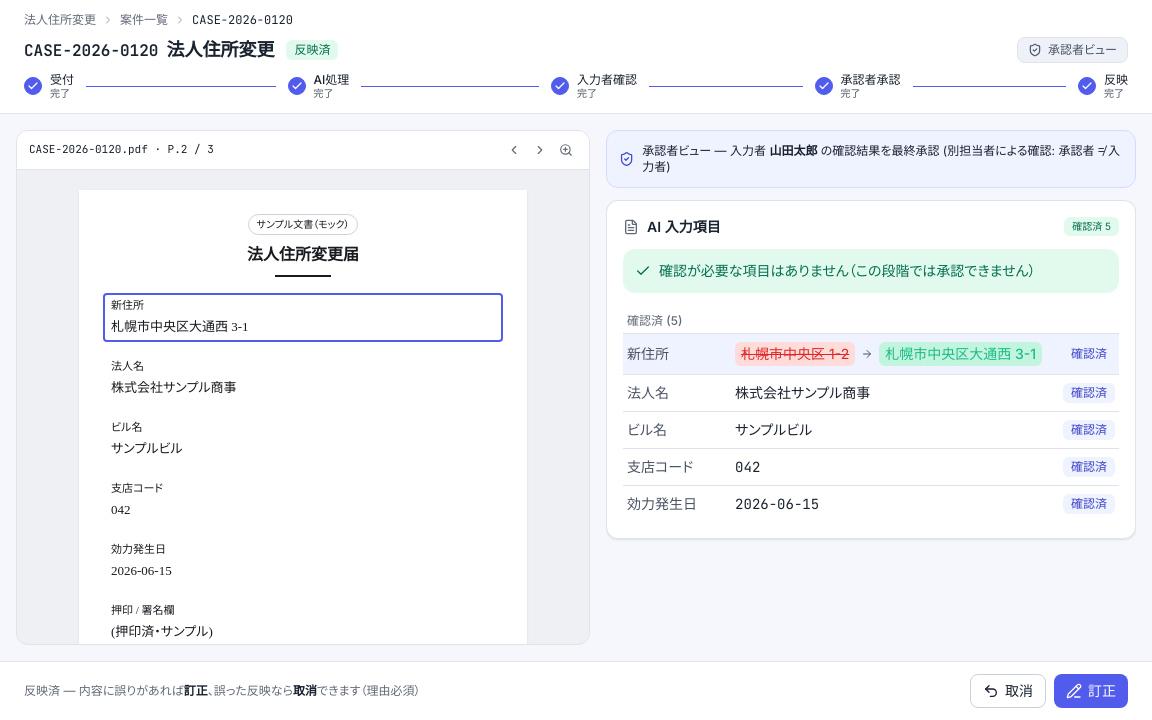
W3 C3 reversal: CaseDetail 反映済の訂正/取消 › 訂正: 理由必須 → reflected→sent-back + reversal banner、反映済 badge が消える
Expected: the text "反映済" is shown, [286,40,338,60]
Click the button "訂正". click: (1091,691)
box: [1054,674,1128,708]
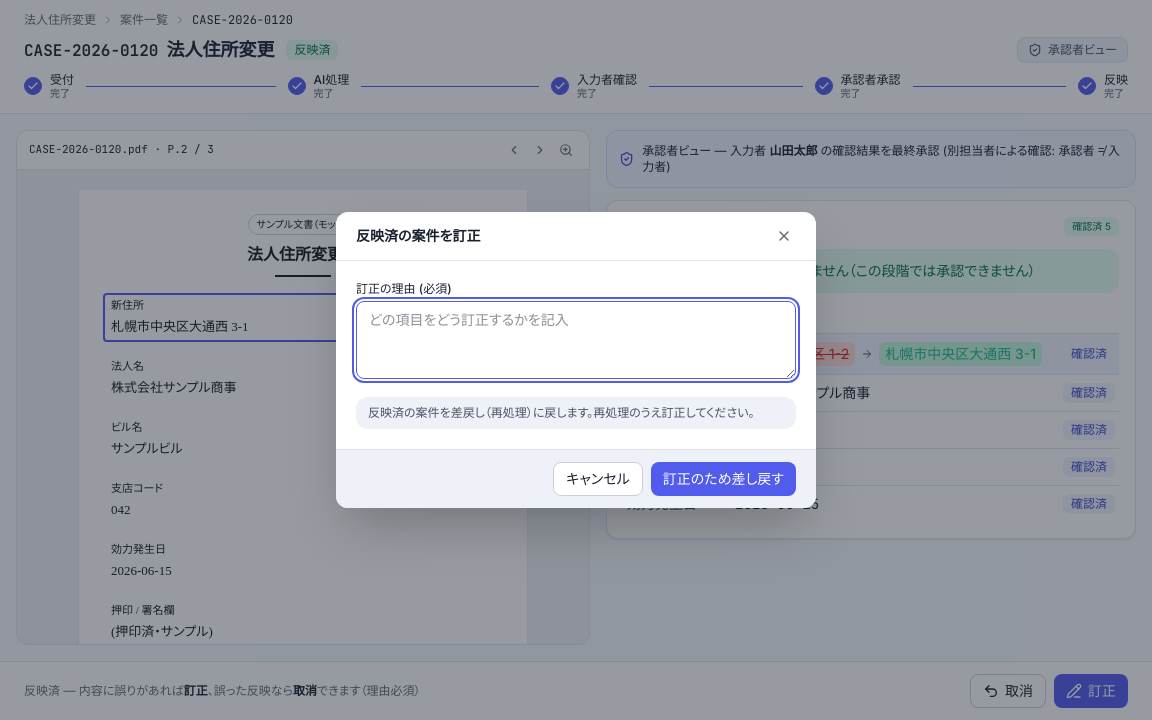
Note: 理由空で submit → error、dispatch されず dialog 残る
Click the button "訂正のため差し戻す". click: (723,479)
box: [651,462,796,496]
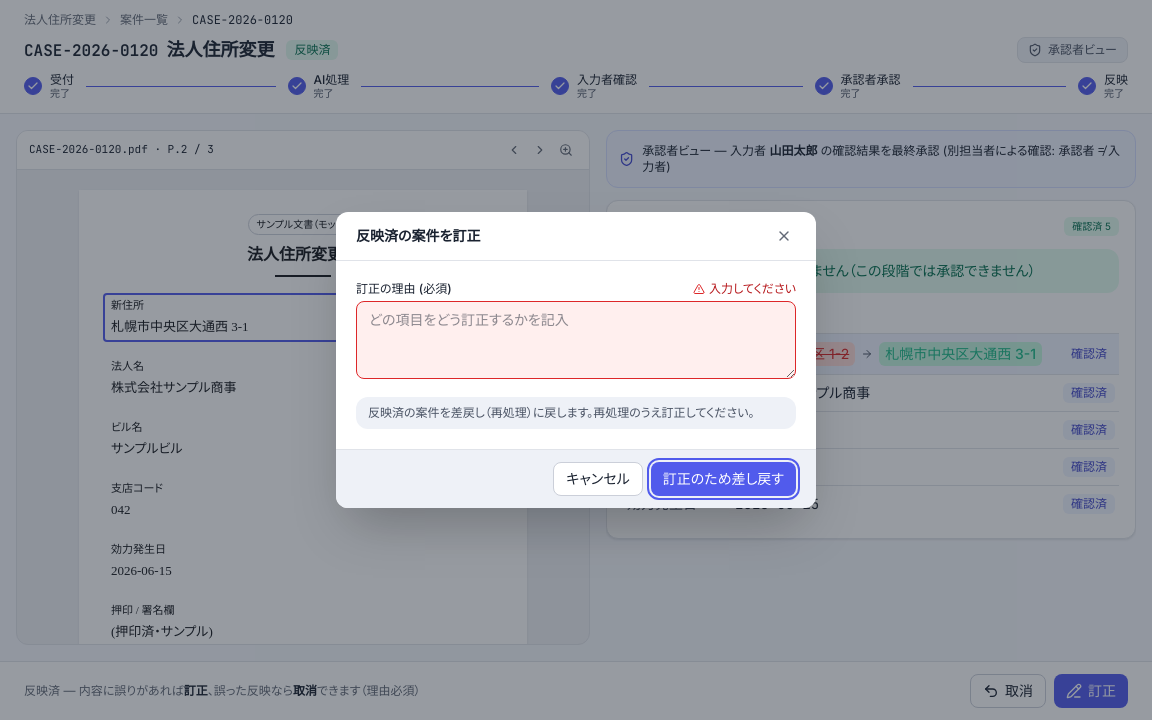
Expected: the text "反映済" is shown, [286,40,338,60]
Result: the text "入力してください" is shown at [693,281,796,297]
Note: 理由入力 → submit → reflected→ready、banner 出現、反映済 badge 消失
Type "住所の番地に誤りがあったため訂正" into the text box. click: (576,340)
box: [356,301,796,379]
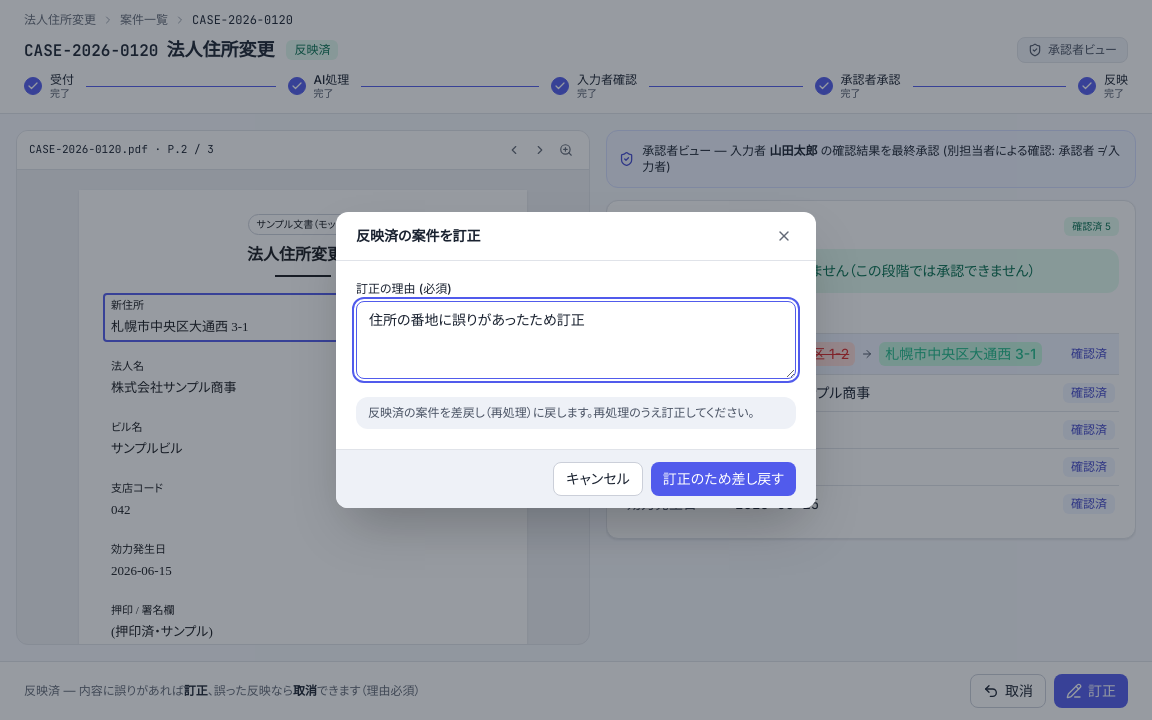
Click the button "訂正のため差し戻す". click: (723,479)
box: [651,462,796,496]
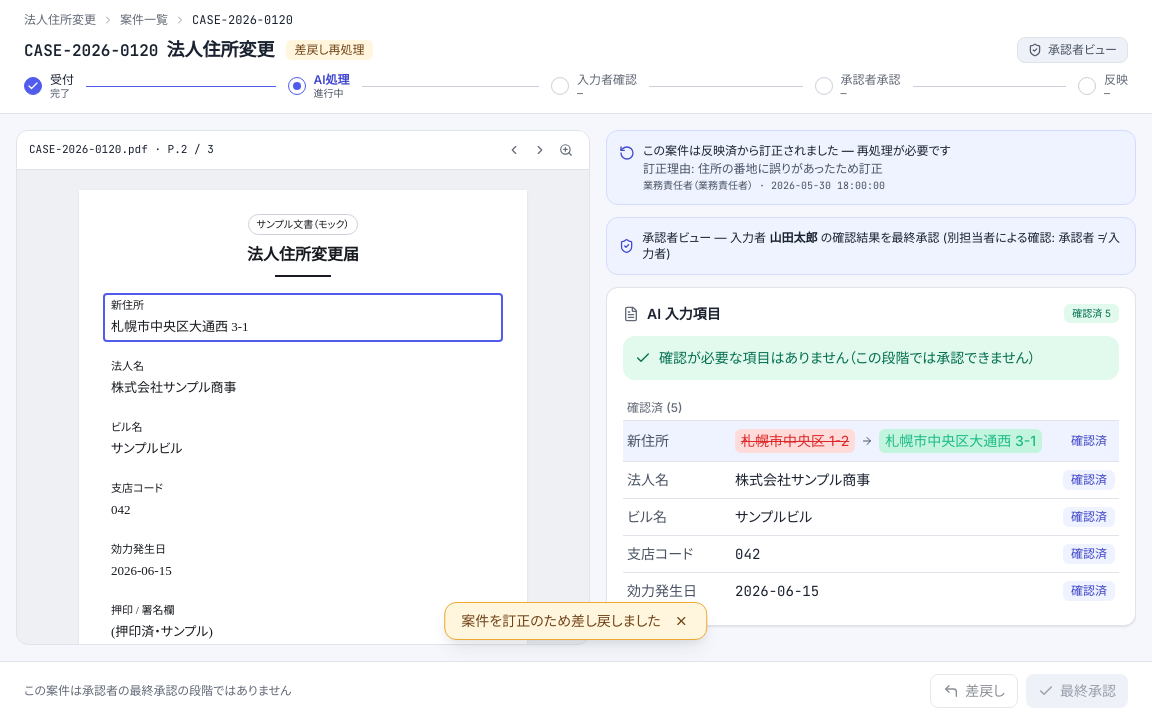
Result: the text "この案件は反映済から訂正されました — 再処理が必要です" is shown at [643,142,951,158]
Result: the text "住所の番地に誤りがあったため訂正" is shown at [698,160,883,176]
Result: the text "業務責任者（業務責任者） · 2026-05-30 18:00:00" is shown at [643,178,885,192]
